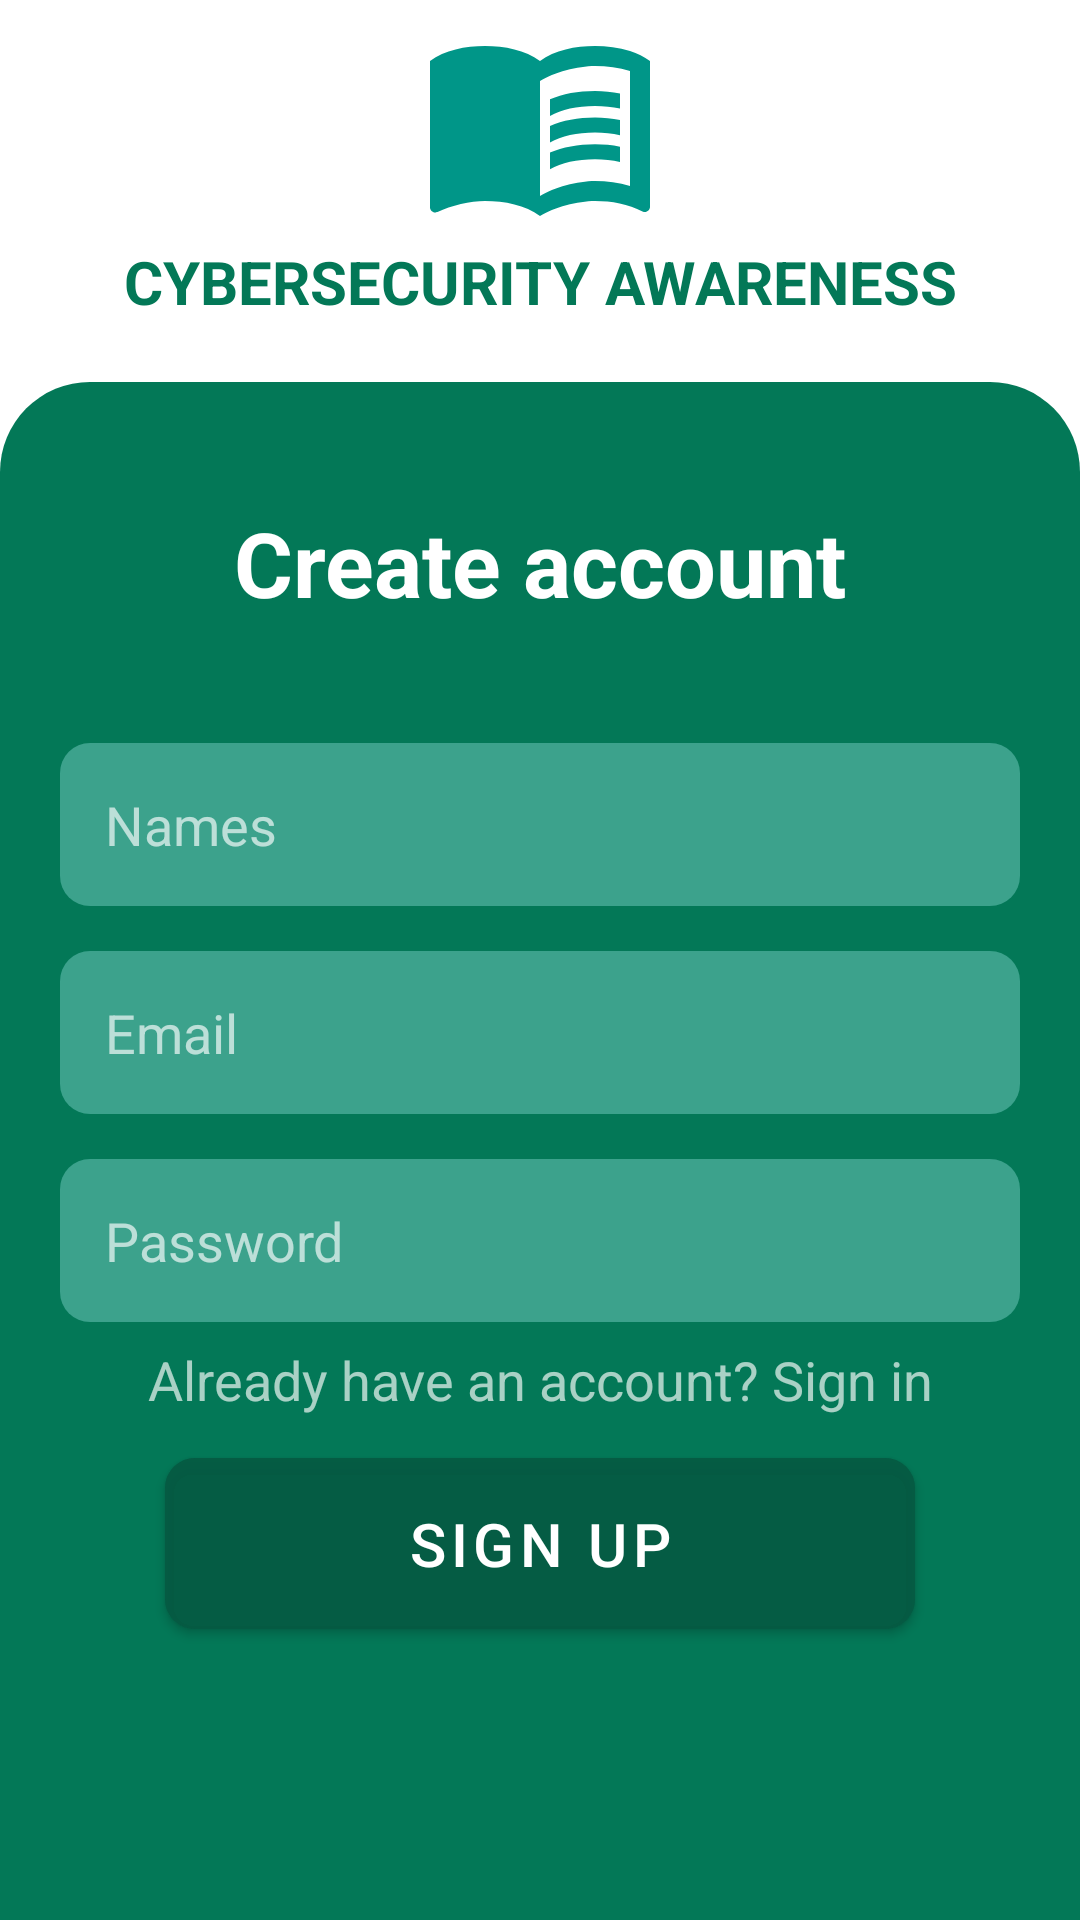

Icons on this 1080 x 1920 Android screen, each with the point to tap as point (x, y):
book: point (540, 131)
